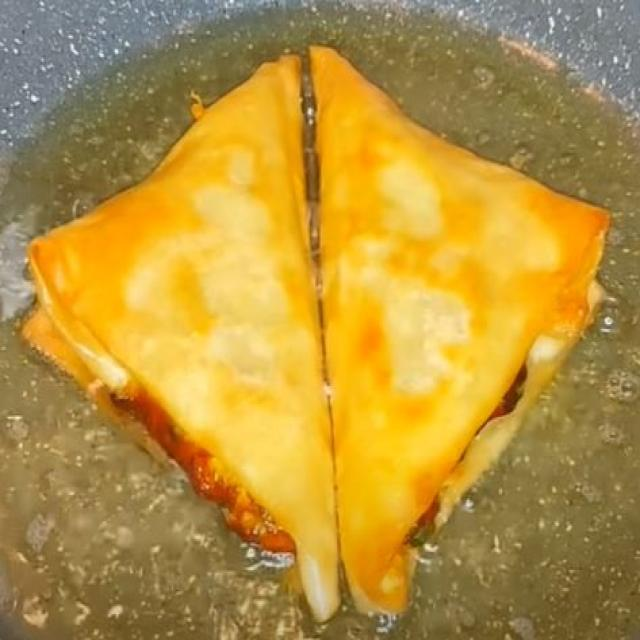brik: (328, 48, 630, 614), (42, 51, 316, 638)
